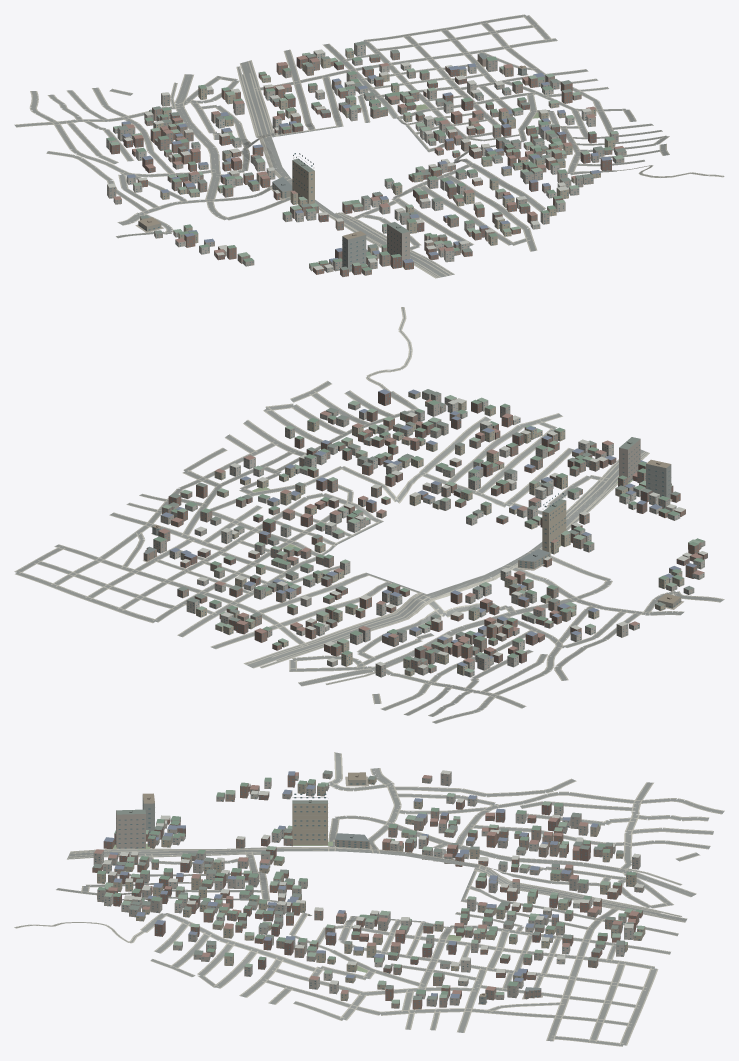
The picture shows the model from 3 angles, top to bottom: view 1: azimuth 30°, elevation 25°; view 2: azimuth 150°, elevation 25°; view 3: azimuth 270°, elevation 25°; orthographic projection. The views are drawn at different scales.
Parts seen in each view (by area): view 1: context-osm-buildings, context-osm-roads, context-osm-sidewalks; view 2: context-osm-buildings, context-osm-roads, context-osm-sidewalks; view 3: context-osm-buildings, context-osm-roads, context-osm-sidewalks.
Boxes of the visible parts, bbox=[...] form: context-osm-buildings: bbox=[106, 41, 626, 276]; context-osm-roads: bbox=[15, 15, 723, 277]; context-osm-sidewalks: bbox=[14, 14, 724, 278]; context-osm-buildings: bbox=[143, 389, 707, 677]; context-osm-roads: bbox=[15, 307, 723, 723]; context-osm-sidewalks: bbox=[14, 307, 724, 723]; context-osm-buildings: bbox=[92, 770, 645, 1009]; context-osm-roads: bbox=[15, 752, 724, 1046]; context-osm-sidewalks: bbox=[14, 752, 724, 1046].
Size of the model in its own units: 776 by 104 by 816.
